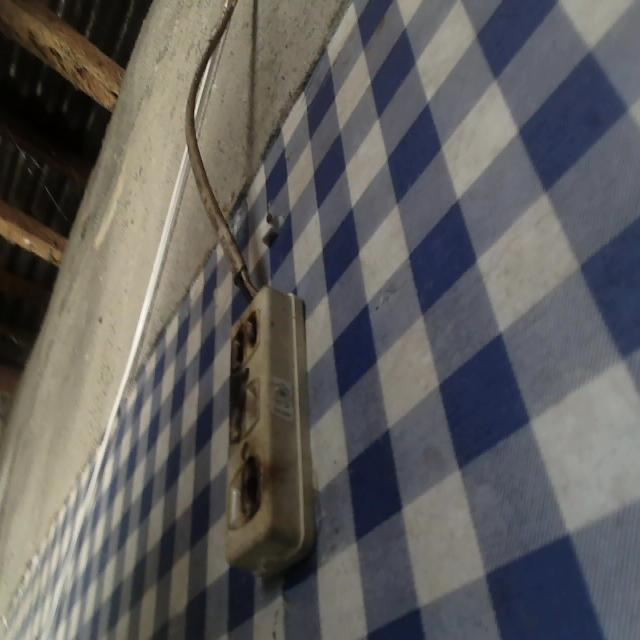-: (229, 309, 261, 372), (236, 454, 263, 526), (223, 384, 248, 445)
